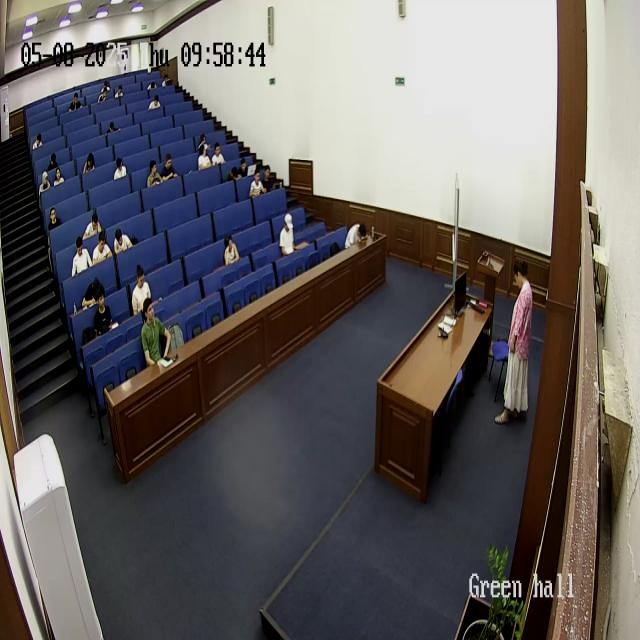person: (496, 260, 535, 420), (140, 296, 174, 367), (130, 264, 152, 316), (92, 287, 114, 337), (70, 238, 92, 276), (279, 213, 297, 256), (91, 229, 112, 264), (82, 210, 103, 241), (344, 221, 364, 251), (222, 234, 240, 266), (114, 226, 134, 253), (160, 152, 178, 180), (248, 169, 266, 197), (261, 163, 279, 191), (196, 141, 212, 171), (146, 159, 162, 187), (237, 153, 254, 179), (220, 166, 238, 190), (112, 156, 128, 180), (210, 142, 226, 166), (48, 206, 62, 230), (52, 165, 66, 187), (82, 152, 96, 173), (39, 170, 51, 194), (68, 91, 82, 111), (32, 133, 47, 151), (46, 149, 59, 169), (147, 92, 161, 110), (111, 84, 125, 100), (103, 118, 116, 134), (161, 75, 174, 91), (199, 135, 212, 150), (148, 76, 160, 90), (98, 84, 107, 102), (101, 80, 111, 93)
